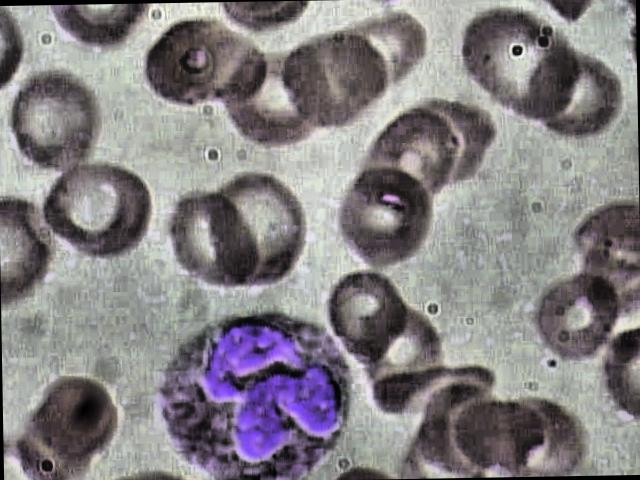RBC: (459, 10, 581, 128), (210, 163, 315, 293), (37, 158, 156, 272), (267, 30, 394, 132), (328, 162, 439, 274), (163, 187, 265, 292), (6, 72, 110, 172), (534, 52, 628, 152), (526, 274, 620, 372), (322, 272, 412, 363), (34, 377, 124, 463)
WBC: (141, 310, 367, 480)
